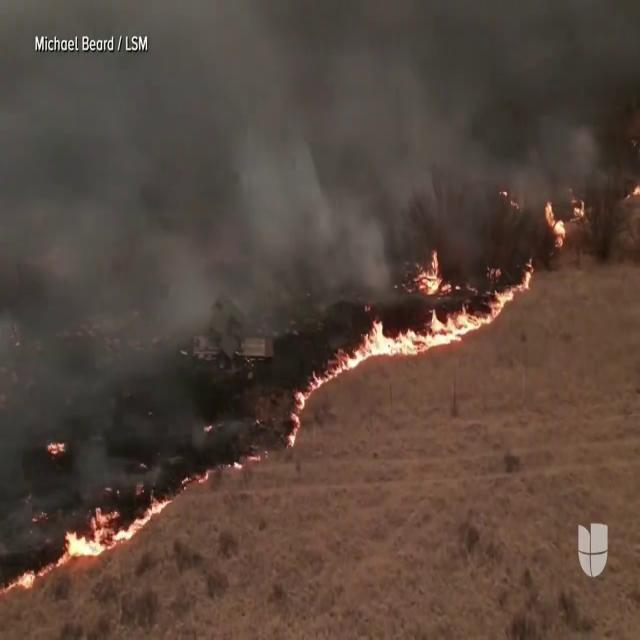Fire: (344, 279, 490, 362), (56, 500, 142, 564), (411, 236, 449, 304), (542, 191, 588, 245)
Smoke: (0, 1, 638, 312)
